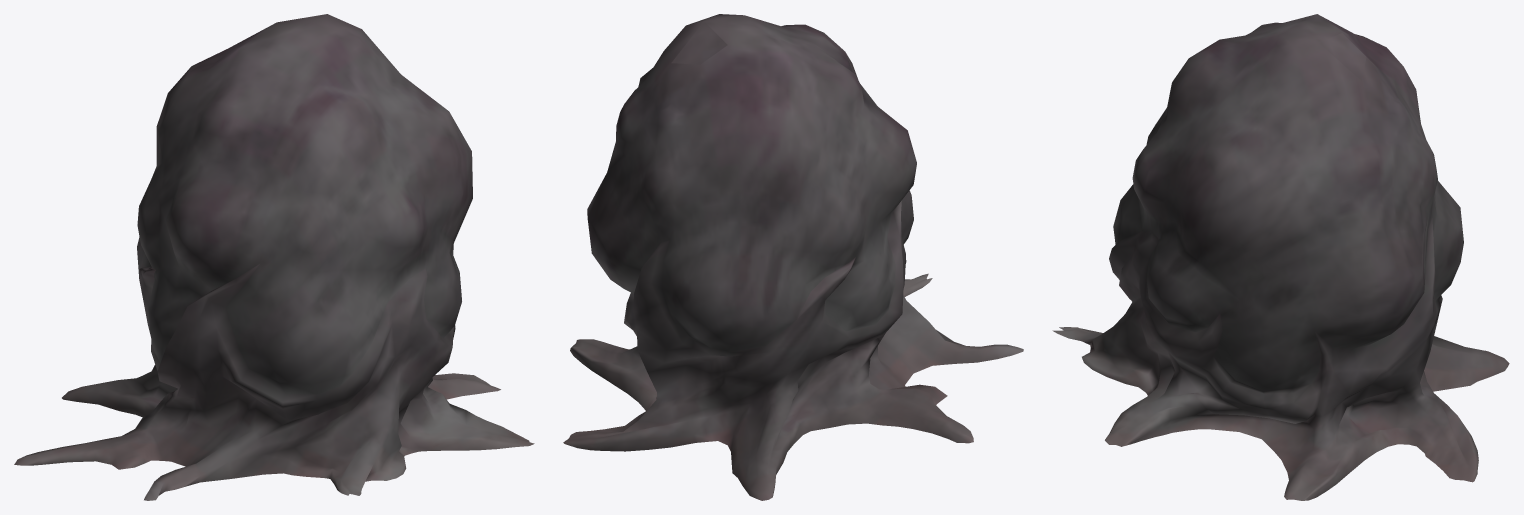
Rendered from Cocoon (36).fbx.
3 renders of one model, left to right at view 1: azimuth 30°, elevation 25°; view 2: azimuth 150°, elevation 25°; view 3: azimuth 270°, elevation 25°, orthographic. The views are drawn at different scales.
Visible parts, largest first — view 1: Egg; view 2: Egg; view 3: Egg.
Part boxes in pixels (bbox=[...]): Egg: bbox=[14, 14, 534, 500]; Egg: bbox=[563, 14, 1023, 500]; Egg: bbox=[1052, 14, 1509, 500].
Size of the model in its own units: 1.73 by 1.52 by 1.55.
1 material, 1 textured.
